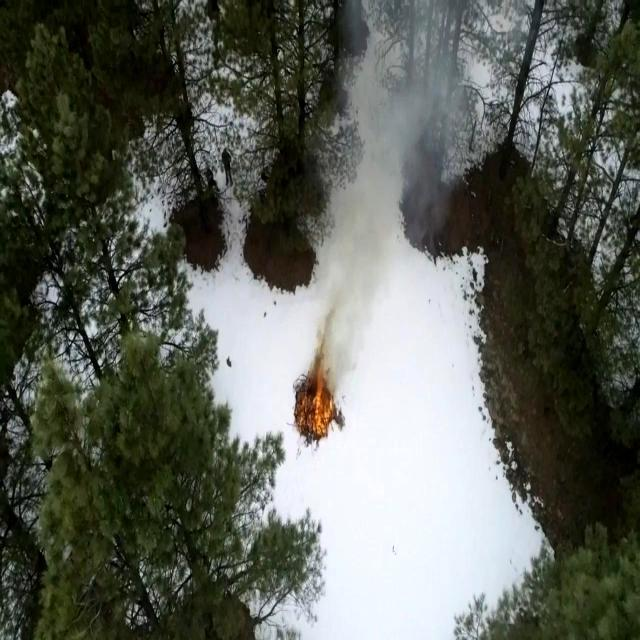Fire: (306, 371, 337, 442)
Smoke: (294, 0, 481, 373)
